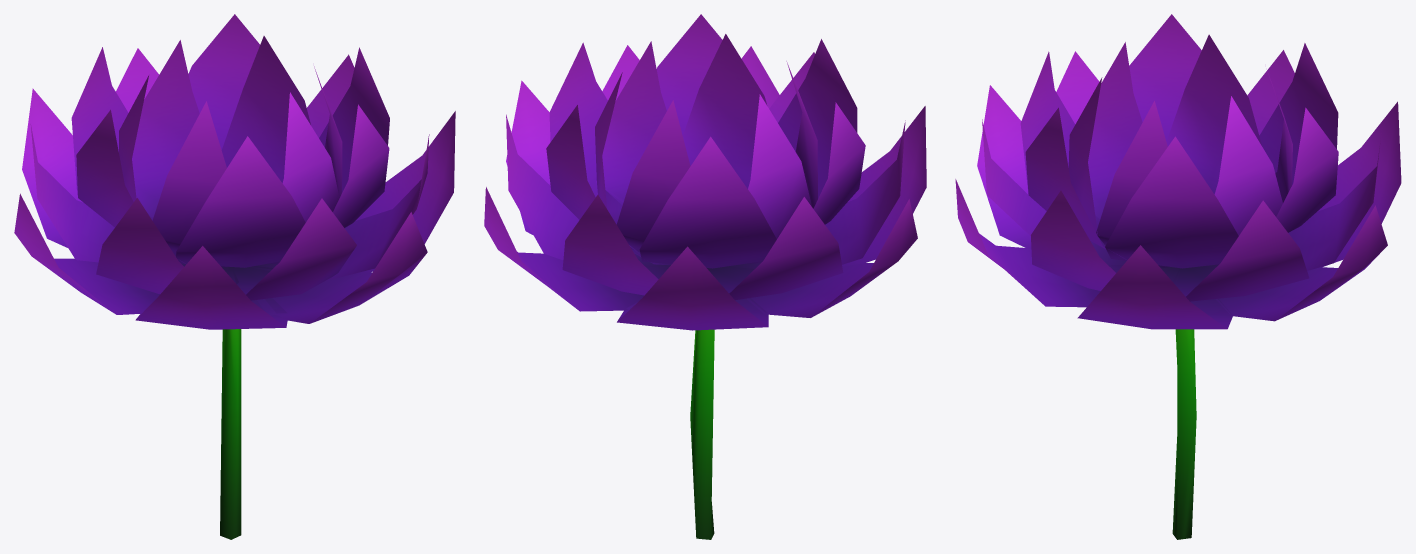
Rendered from flower (13)_LOD1.fbx.
3 views of the same model, side by side, from view 1: azimuth 30°, elevation 25°; view 2: azimuth 150°, elevation 25°; view 3: azimuth 270°, elevation 25° (orthographic).
Parts seen in each view (by area): view 1: 12_f2; view 2: 12_f2; view 3: 12_f2.
Part boxes in pixels (x1,y1,x2,y2): 12_f2: [14, 14, 455, 539]; 12_f2: [484, 14, 926, 539]; 12_f2: [955, 14, 1401, 539].
Bounding box in the file's own units: 106 × 115 × 99.5.
